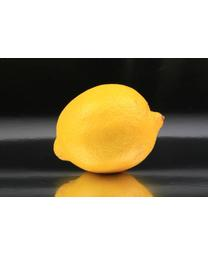lemon: (55, 84, 163, 172)
